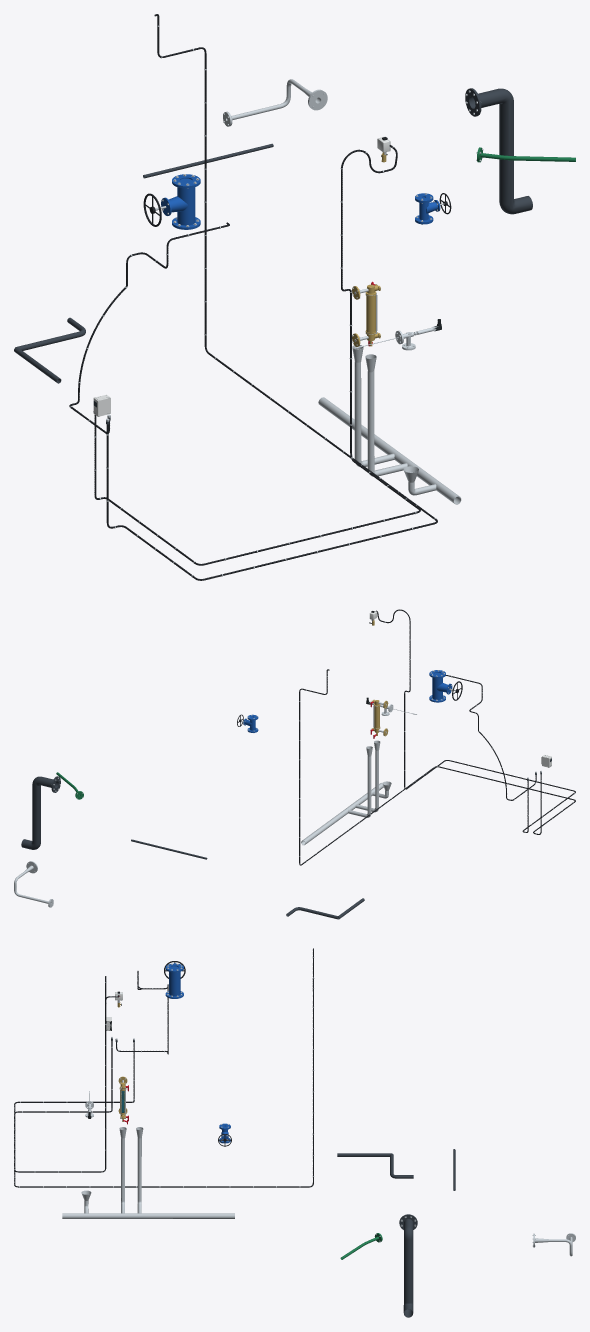
Rendered from s4000-4-Dn1b8wqX.glb.
The picture shows the model from 3 angles, top to bottom: view 1: azimuth 30°, elevation 25°; view 2: azimuth 150°, elevation 25°; view 3: azimuth 270°, elevation 25°; orthographic projection. The views are drawn at different scales.
Parts seen in each view (by area): view 1: local_open_drains / steel, mod_direct_drive_cable / black, bdv_water_drain / dark, wiring_pressure_transmitter / black, steam_manual / blue, fv_to_trap_gap / steel, sight_glasses_1 / sight_glasses_1_0.npz, wiring_low_level_2 / black; view 2: local_open_drains / steel, mod_direct_drive_cable / black, bdv_water_drain / dark, wiring_pressure_transmitter / black, steam_manual / blue; view 3: local_open_drains / steel, mod_direct_drive_cable / black, bdv_water_drain / dark, wiring_pressure_transmitter / black, steam_manual / blue.
Boxes of the visible parts, bbox=[...] form: local_open_drains / steel: bbox=[318, 345, 461, 504]; mod_direct_drive_cable / black: bbox=[106, 14, 437, 580]; bdv_water_drain / dark: bbox=[465, 88, 532, 214]; wiring_pressure_transmitter / black: bbox=[94, 145, 420, 565]; steam_manual / blue: bbox=[161, 174, 200, 229]; fv_to_trap_gap / steel: bbox=[223, 79, 327, 126]; sight_glasses_1 / sight_glasses_1_0.npz: bbox=[352, 281, 380, 346]; wiring_low_level_2 / black: bbox=[69, 222, 229, 433]; local_open_drains / steel: bbox=[301, 740, 391, 845]; mod_direct_drive_cable / black: bbox=[299, 669, 575, 865]; bdv_water_drain / dark: bbox=[21, 776, 60, 849]; wiring_pressure_transmitter / black: bbox=[375, 609, 575, 832]; steam_manual / blue: bbox=[429, 670, 452, 702]; local_open_drains / steel: bbox=[62, 1127, 234, 1218]; mod_direct_drive_cable / black: bbox=[14, 948, 313, 1187]; bdv_water_drain / dark: bbox=[399, 1214, 417, 1317]; wiring_pressure_transmitter / black: bbox=[14, 976, 134, 1172]; steam_manual / blue: bbox=[165, 963, 183, 998].
Bounding box in the file's own units: 5.91 × 3.14 × 6.74.
